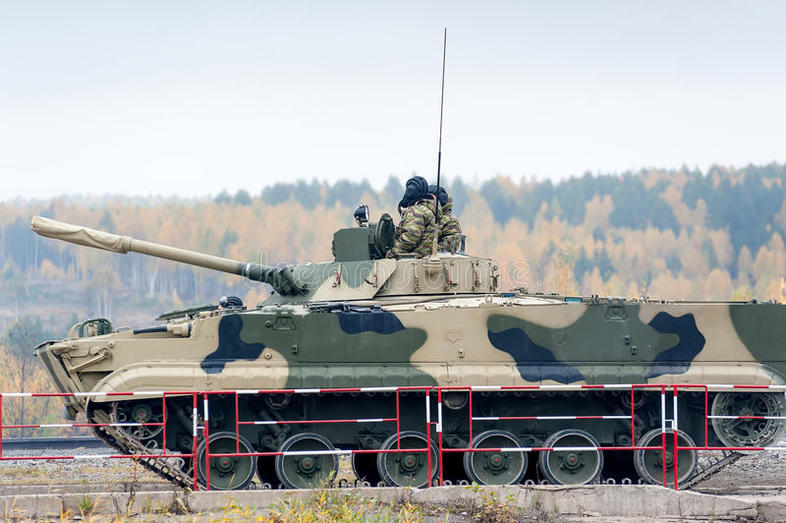bmp: (29, 219, 786, 487)
